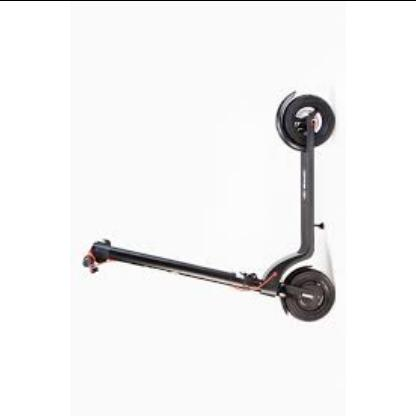bike: (82, 92, 338, 322)
